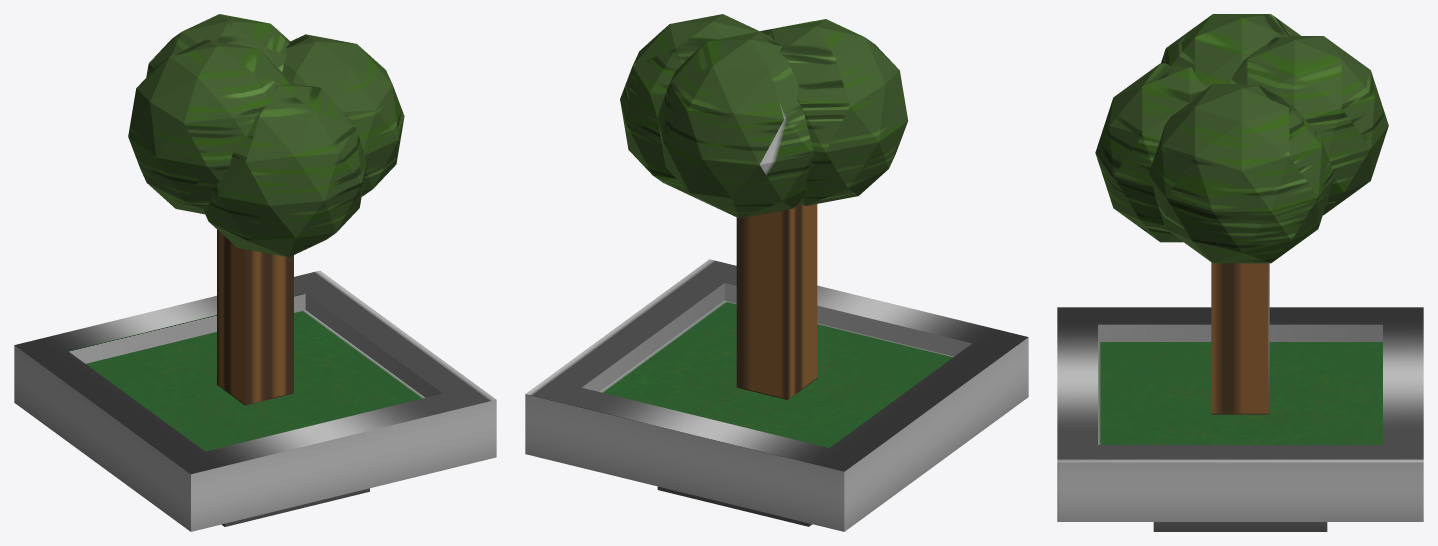
The model's file is temp_garden.obj.
3 views of the same model, side by side, from view 1: azimuth 30°, elevation 25°; view 2: azimuth 150°, elevation 25°; view 3: azimuth 270°, elevation 25° (orthographic). The views are drawn at different scales.
Visible parts, largest first — view 1: Cube; view 2: Cube; view 3: Cube.
Part boxes in pixels (left/top/right/bottom): Cube: left=14, top=14, right=496, bottom=531; Cube: left=525, top=14, right=1028, bottom=531; Cube: left=1057, top=14, right=1423, bottom=531.
Size of the model in its own units: 3.89 by 5.36 by 3.89.
